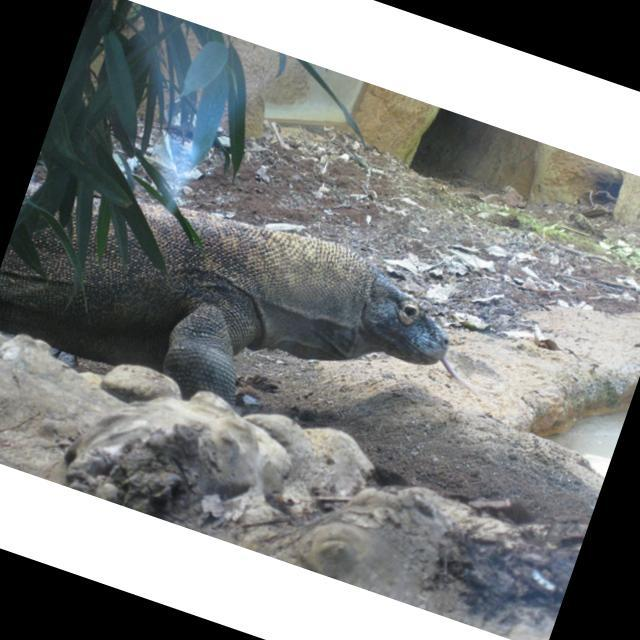KomodoDragon: (0, 138, 469, 489)
